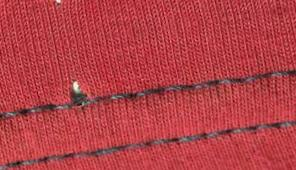hole: (69, 77, 87, 104)
